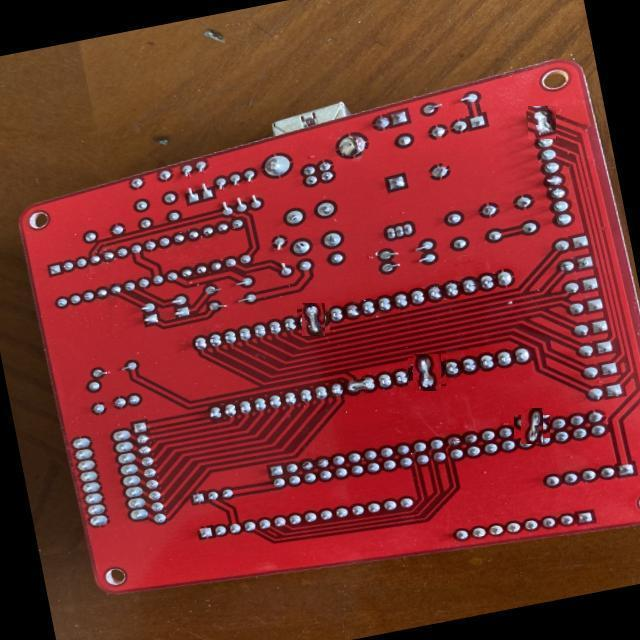damged: (411, 356, 443, 389), (527, 105, 556, 139), (517, 412, 547, 441), (342, 374, 378, 397), (299, 306, 328, 334)
